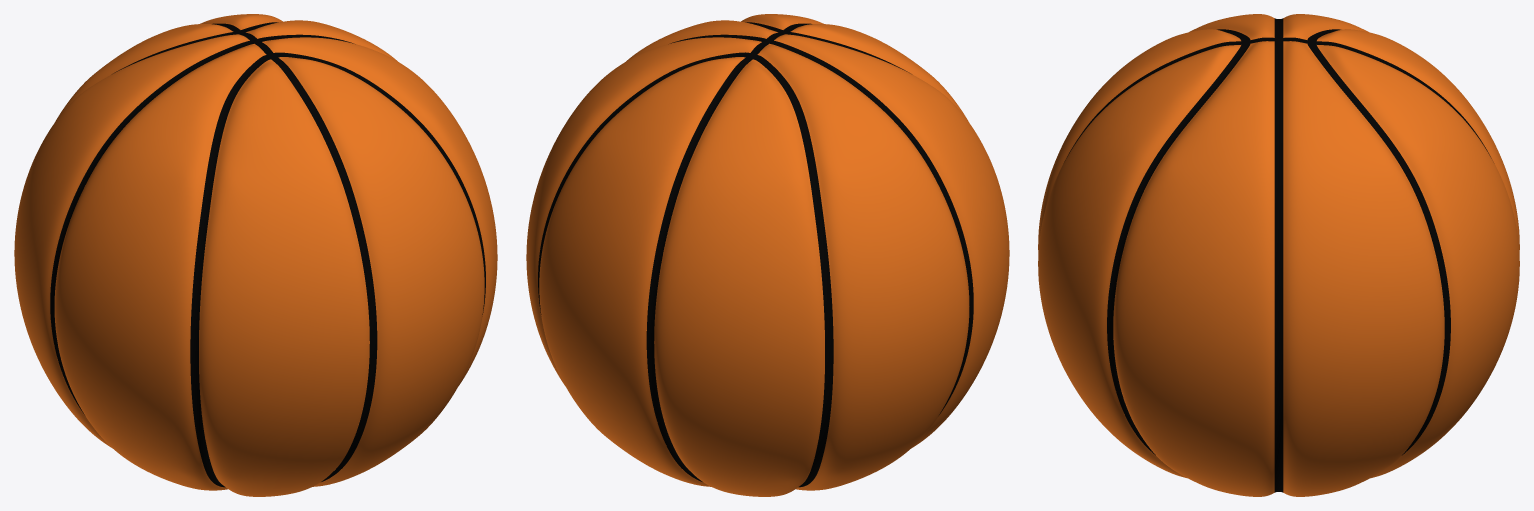
File: basketball.glb
3 views of the same model, side by side, from view 1: azimuth 30°, elevation 25°; view 2: azimuth 150°, elevation 25°; view 3: azimuth 270°, elevation 25° (orthographic).
Parts seen in each view (by area): view 1: Basketball; view 2: Basketball; view 3: Basketball.
Part boxes in pixels (x1=…): Basketball: x1=14, y1=14, x2=497, y2=496; Basketball: x1=526, y1=14, x2=1009, y2=496; Basketball: x1=1038, y1=14, x2=1519, y2=496.
Size of the model in its own units: 3.36 by 3.36 by 3.36.
